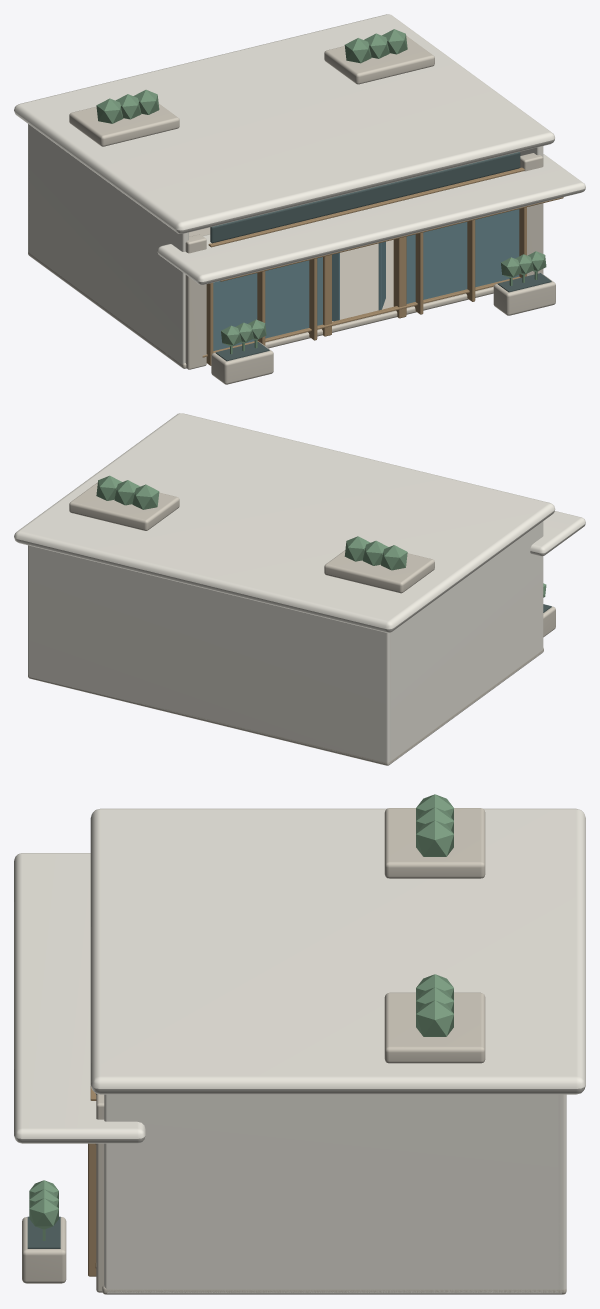
The picture shows the model from 3 angles, top to bottom: view 1: azimuth 30°, elevation 25°; view 2: azimuth 150°, elevation 25°; view 3: azimuth 270°, elevation 25°; orthographic projection. The views are drawn at different scales.
Visible parts, largest first — view 1: Instanced ivory concrete, Instanced warm limestone, Instanced deep teal glazing, Instanced brushed bronze, Instanced signage field, Instanced planter green; view 2: Instanced ivory concrete, Instanced warm limestone, Instanced planter green; view 3: Instanced ivory concrete, Instanced warm limestone, Instanced planter green, Instanced brushed bronze, Instanced signage field.
Part boxes in pixels (bbox=[...]): Instanced ivory concrete: bbox=[14, 14, 585, 367]; Instanced warm limestone: bbox=[28, 36, 555, 384]; Instanced deep teal glazing: bbox=[213, 209, 519, 350]; Instanced brushed bronze: bbox=[202, 167, 563, 365]; Instanced signage field: bbox=[210, 152, 551, 361]; Instanced planter green: bbox=[96, 29, 546, 354]; Instanced ivory concrete: bbox=[14, 413, 585, 765]; Instanced warm limestone: bbox=[28, 482, 555, 765]; Instanced planter green: bbox=[96, 475, 546, 597]; Instanced ivory concrete: bbox=[14, 808, 585, 1294]; Instanced warm limestone: bbox=[22, 808, 566, 1294]; Instanced planter green: bbox=[29, 794, 453, 1240]; Instanced brushed bronze: bbox=[88, 1086, 96, 1276]; Instanced signage field: bbox=[27, 1093, 96, 1248].
Size of the model in its own units: 17.2 by 7.63 by 14.78.
